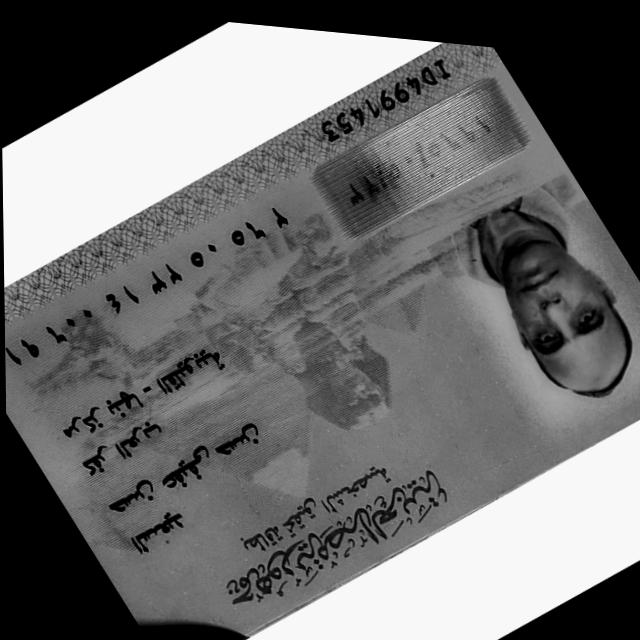front: (4, 43, 640, 640)
